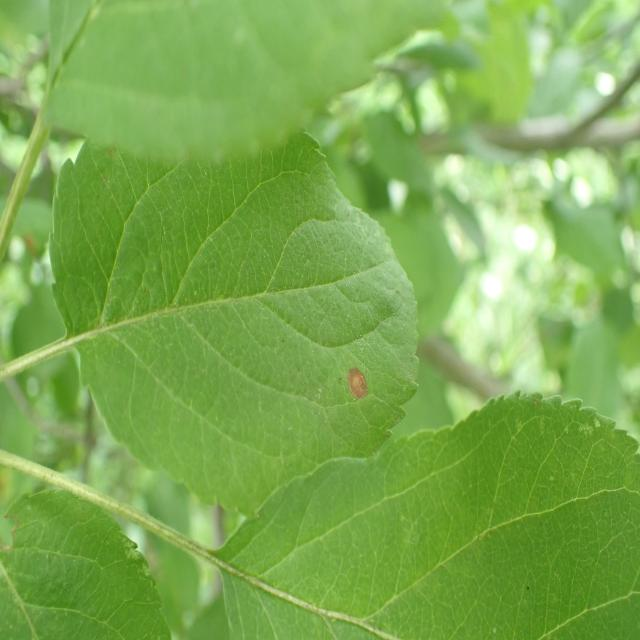Black Rot: (348, 348, 371, 409)
